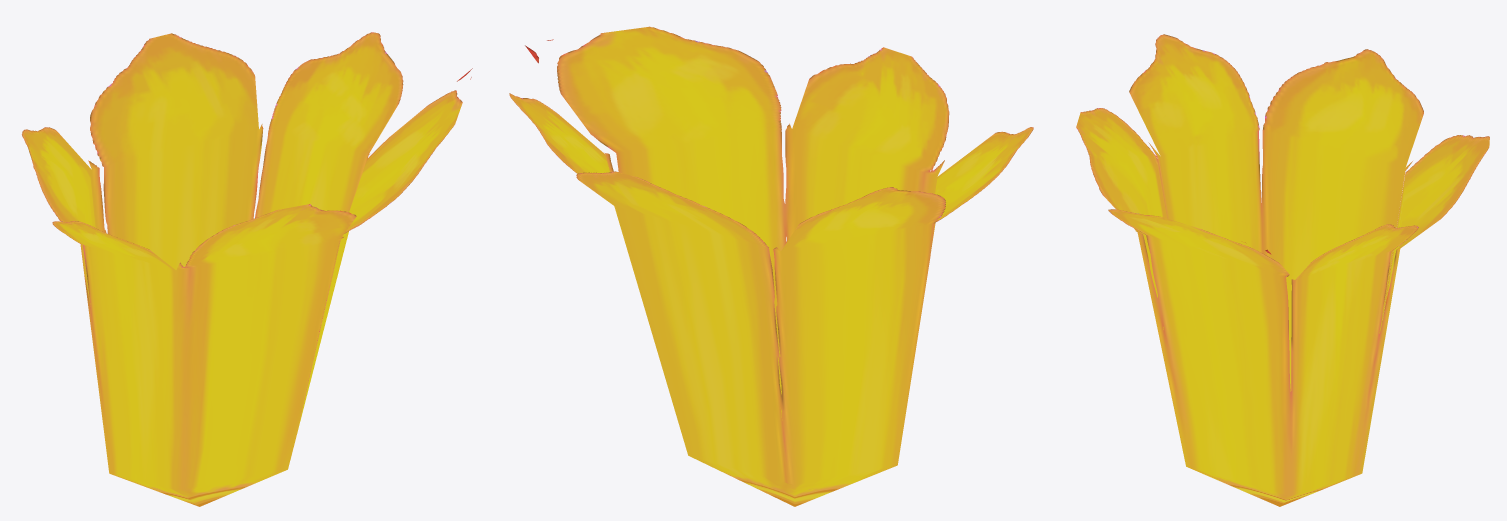
Rendered from petal_4.gltf.
The picture shows the model from 3 angles, left to right: view 1: azimuth 30°, elevation 25°; view 2: azimuth 150°, elevation 25°; view 3: azimuth 270°, elevation 25°; orthographic projection. The views are drawn at different scales.
Visible parts, largest first — view 1: petal_4; view 2: petal_4; view 3: petal_4.
Part boxes in pixels (bbox=[...]): petal_4: bbox=[22, 32, 472, 506]; petal_4: bbox=[509, 26, 1033, 506]; petal_4: bbox=[1076, 34, 1489, 506].
Size of the model in its own units: 0.3291 by 0.2521 by 0.2445.
1 material, 1 textured.
